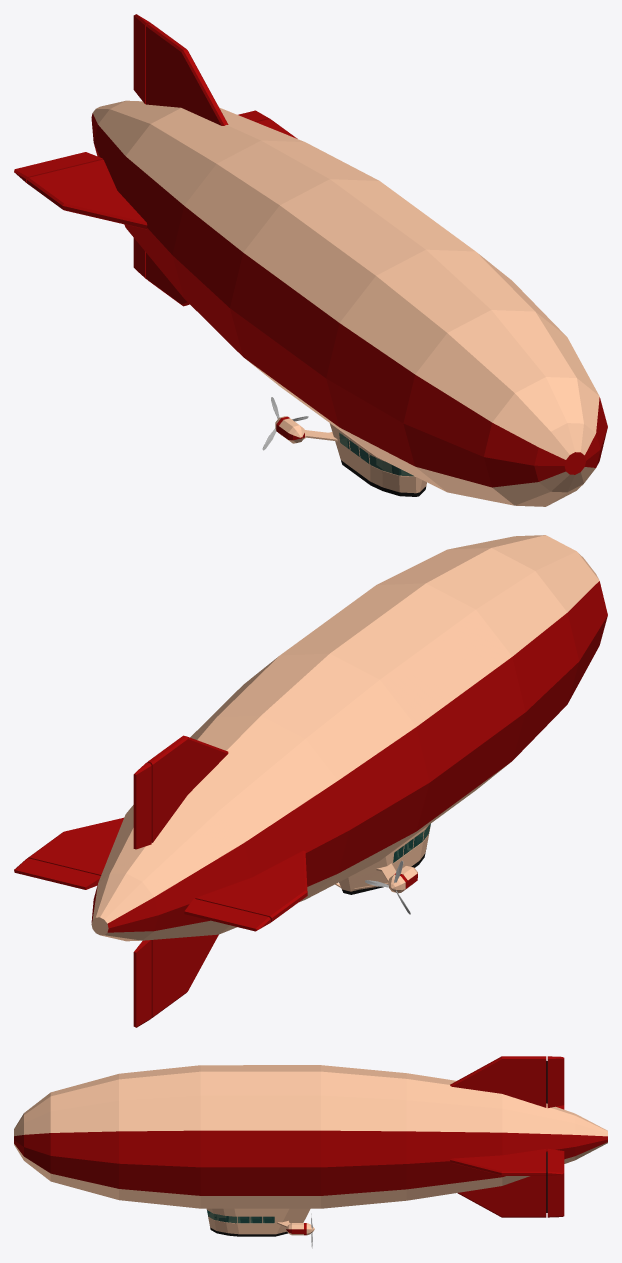
The model's file is Zeppelin_01.FBX.
The picture shows the model from 3 angles, top to bottom: view 1: azimuth 30°, elevation 25°; view 2: azimuth 150°, elevation 25°; view 3: azimuth 270°, elevation 25°; orthographic projection. The views are drawn at different scales.
Parts seen in each view (by area): view 1: Zeppelin_01, verticalFins, horizontalFins, cabin, rudder, elevators; view 2: Zeppelin_01, verticalFins, horizontalFins, rudder, elevators, cabin; view 3: Zeppelin_01, verticalFins, cabin, horizontalFins, rudder, elevators, interior.
Part boxes in pixels (x1=…): Zeppelin_01: x1=91, y1=100, x2=607, y2=506; verticalFins: x1=146, y1=23, x2=228, y2=306; horizontalFins: x1=27, y1=119, x2=297, y2=229; cabin: x1=278, y1=418, x2=426, y2=496; rudder: x1=133, y1=14, x2=150, y2=279; elevators: x1=14, y1=110, x2=269, y2=182; Zeppelin_01: x1=91, y1=535, x2=607, y2=941; verticalFins: x1=147, y1=735, x2=228, y2=1018; horizontalFins: x1=27, y1=817, x2=307, y2=922; rudder: x1=133, y1=762, x2=151, y2=1027; elevators: x1=14, y1=858, x2=270, y2=931; cabin: x1=335, y1=824, x2=430, y2=894; Zeppelin_01: x1=14, y1=1065, x2=607, y2=1208; verticalFins: x1=450, y1=1056, x2=547, y2=1217; cabin: x1=206, y1=1208, x2=310, y2=1236; horizontalFins: x1=450, y1=1103, x2=547, y2=1175; rudder: x1=547, y1=1056, x2=564, y2=1217; elevators: x1=547, y1=1105, x2=564, y2=1175; interior: x1=207, y1=1210, x2=274, y2=1222.
Bounding box in the file's own units: 157 × 528 × 170.
